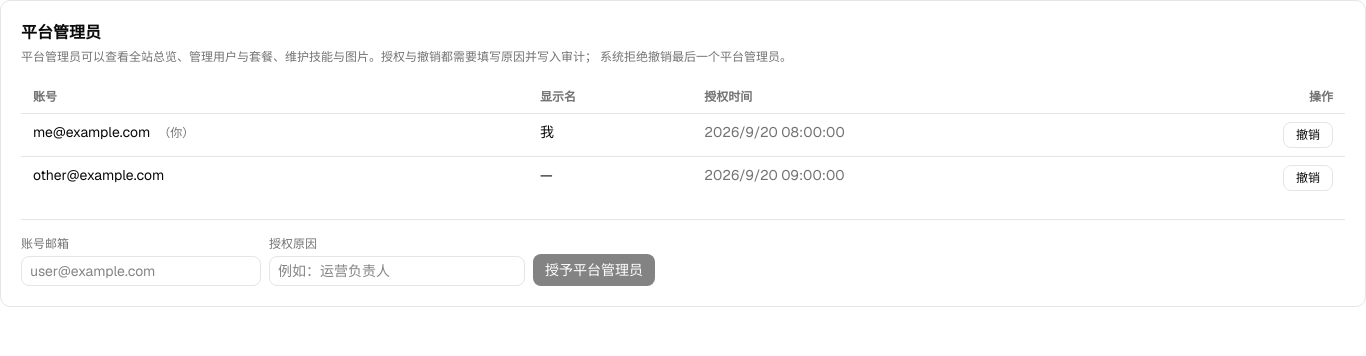
Scenario: admin access section › surfaces a server refusal instead of pretending it worked
Expected: the table with test id "admin-admins" is shown, [21,81,1345,199]
Type "ghost@example.com" into the field named "要授权的账号邮箱". click: (141, 271)
box: [21,256,261,286]
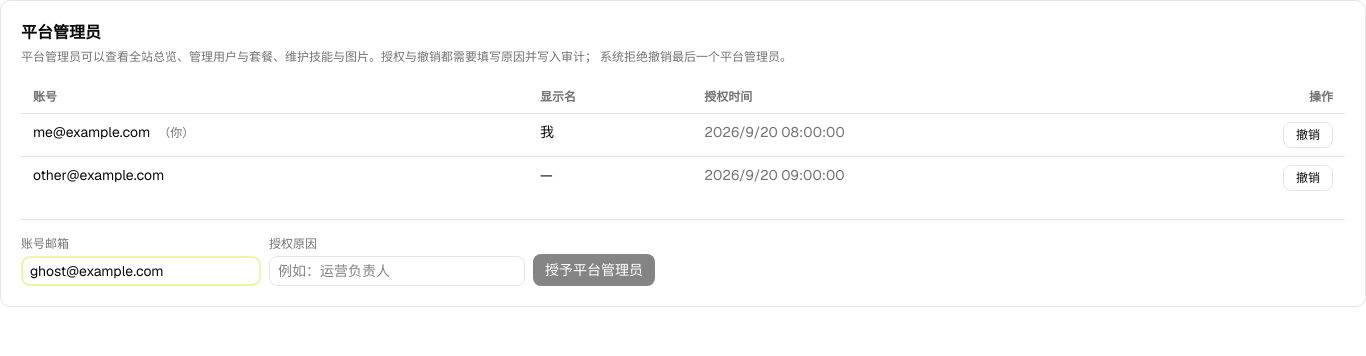
Type "任命" into the field labelled "授权原因". click: (397, 271)
box: [269,256,525,286]
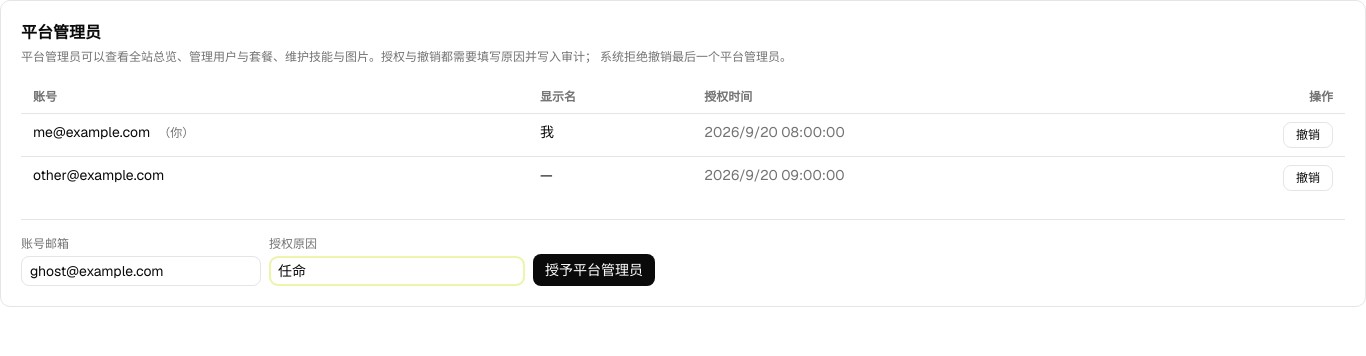
Click the button "授予平台管理员". click: (594, 270)
box: [533,254,655,286]
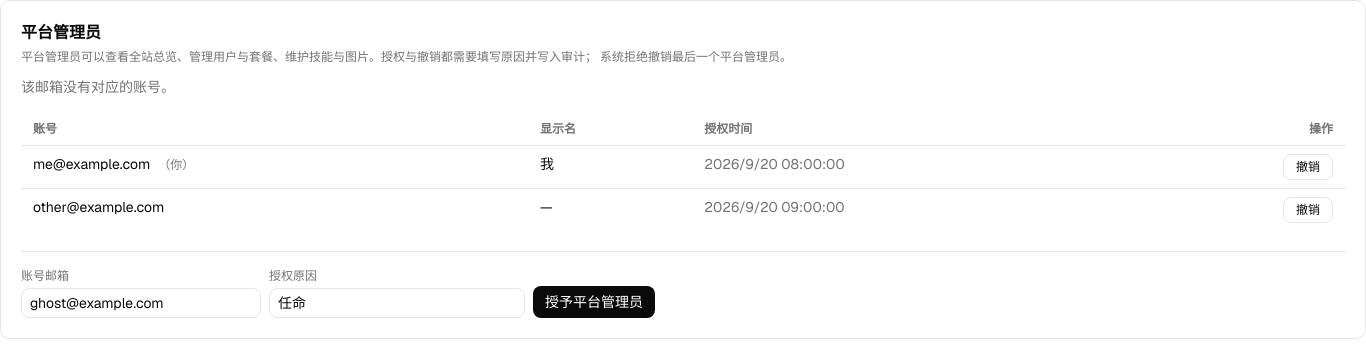
Result: the text with test id "admin-access-feedback" reads "该邮箱没有对应的账号。" at [21,78,175,96]
